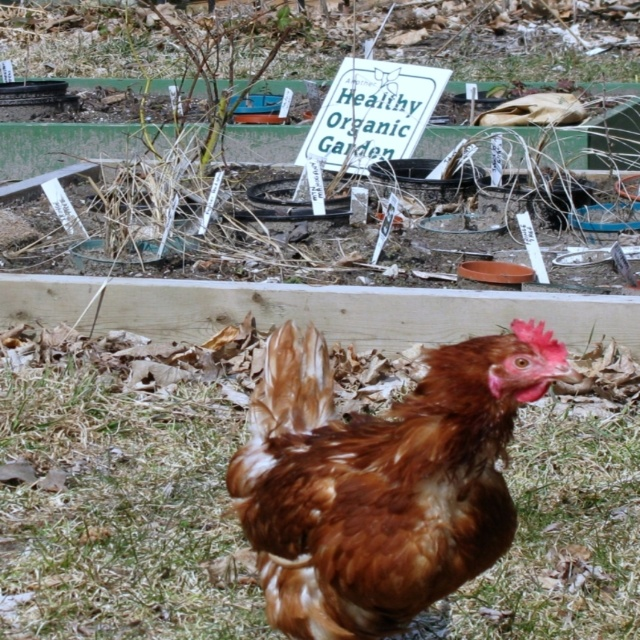Chicken: (220, 310, 592, 639)
